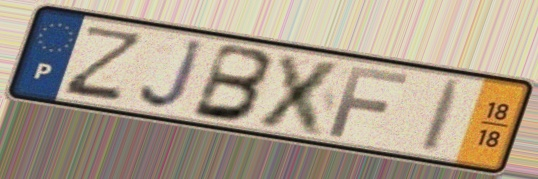B: (188, 40, 278, 125)
F: (325, 63, 413, 140)
I: (417, 76, 470, 157)
J: (136, 37, 209, 113)
X: (251, 50, 351, 140)
Z: (58, 23, 150, 103)
